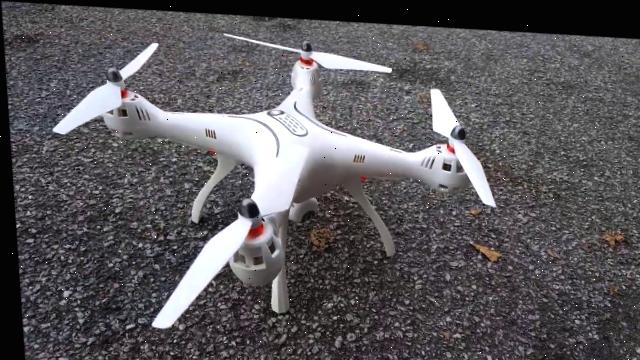drone: (42, 19, 502, 346)
